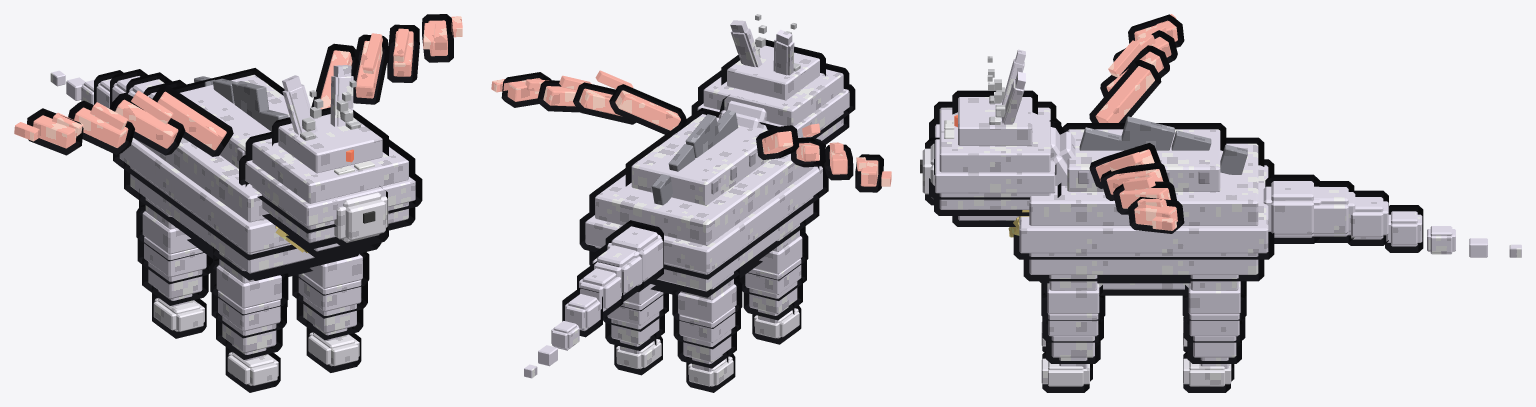
The model's file is guardian_snow.glb.
The picture shows the model from 3 angles, left to right: view 1: azimuth 30°, elevation 25°; view 2: azimuth 150°, elevation 25°; view 3: azimuth 270°, elevation 25°; orthographic projection. The views are drawn at different scales.
Visible parts, largest first — view 1: model; view 2: model; view 3: model.
Part boxes in pixels (bbox=[...]): model: bbox=[14, 14, 462, 392]; model: bbox=[491, 14, 891, 392]; model: bbox=[920, 14, 1521, 392].
Size of the model in its own units: 2.66 by 1.81 by 3.24.
11 materials, 10 textured.
